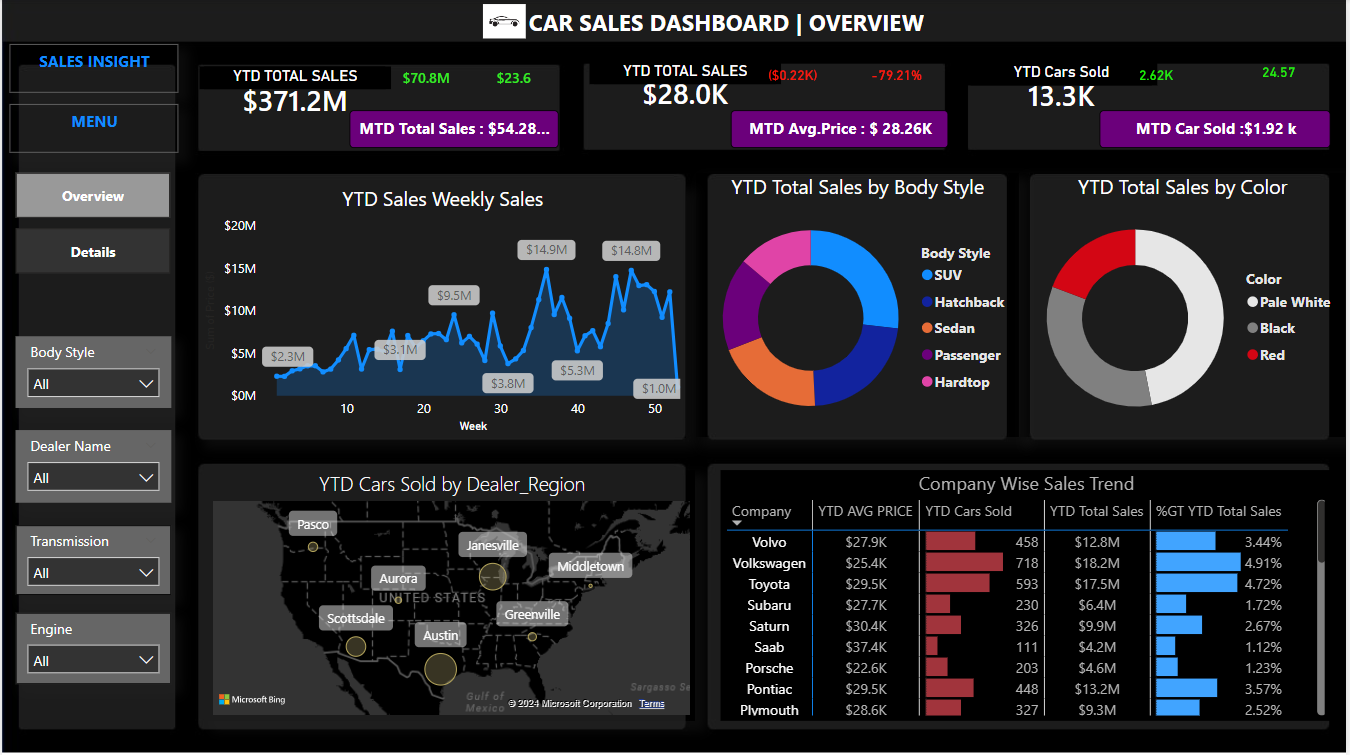

The page's visual inventory and layout, read from the dashboard file:
{"tool":"powerbi","page":{"name":"Overview","canvas":[1280,720],"ordinal":0},"visuals":[{"type":"card","title":"YTD TOTAL SALES","fields":{"Values":["car_data.YTD"]},"box":[188.1,64.3,182.1,50],"z":0},{"type":"card","fields":{"Values":["Calendar Table.Sales Difference"]},"box":[347.6,59.5,113.1,35.7],"z":1000},{"type":"card","fields":{"Values":["Calendar Table.YOY Sales"]},"box":[445.2,57.1,84.5,40.5],"z":2000},{"type":"card","fields":{"Values":["car_data.MTD_KPI"]},"box":[331,106,198.8,35.7],"z":3000},{"type":"card","title":"YTD TOTAL SALES","fields":{"Values":["car_data.YTD AVG PRICE"]},"box":[559.5,59.5,182.1,46.4],"z":4000},{"type":"card","fields":{"Values":["car_data.Average Sales Diff"]},"box":[703.6,56,98.8,35.7],"z":5000},{"type":"card","fields":{"Values":["car_data.YOY Average price Growth"]},"box":[802.4,56,98.8,35.7],"z":6000},{"type":"card","fields":{"Values":["car_data.Concatenate Avg sales MTD"]},"box":[694.1,106,207.1,35.7],"z":7000},{"type":"card","title":"YTD Cars Sold","fields":{"Values":["car_data.YTD Cars Sold"]},"box":[917.9,60.7,182.1,46.4],"z":8000},{"type":"card","fields":{"Values":["car_data.Car Sold Diff"]},"box":[1050,56,98.8,35.7],"z":9000},{"type":"card","fields":{"Values":["car_data.YOY Car Sold"]},"box":[1166.7,53.6,98.8,35.7],"z":10000},{"type":"card","fields":{"Values":["car_data.MTD CAR SOLD KPI"]},"box":[1045.2,106,220.2,35.7],"z":11000},{"type":"areaChart","title":"YTD Sales Weekly Sales","fields":{"Category":["Calendar Table.Week"],"Y":["Sum(car_data.Price ($))"]},"box":[188.1,177.4,463.1,240.5],"z":12000},{"type":"donutChart","fields":{"Category":["car_data.Body Style"],"Y":["car_data.YTD"]},"box":[660.7,165.5,308.3,252.4],"z":13000},{"type":"donutChart","fields":{"Y":["car_data.YTD"],"Category":["car_data.Color"]},"box":[969.1,165.5,310.7,252.4],"z":14000},{"type":"map","fields":{"Category":["car_data.Dealer_Region"],"Size":["car_data.YTD Cars Sold"]},"box":[196.4,448.8,464.3,238.1],"z":15000},{"type":"pivotTable","title":"Company Wise Sales Trend","fields":{"Rows":["car_data.Company"],"Values":["car_data.YTD AVG PRICE","car_data.YTD Cars Sold","car_data.YTD","Divide(car_data.YTD Total Sales, ScopedEval(car_data.YTD Total Sales, []))"]},"box":[684.5,448.8,581,238.1],"z":16000},{"type":"textbox","box":[419,2.4,464.3,41.7],"z":17000},{"type":"image","box":[445.2,0,66.7,42.9],"z":18000},{"type":"slicer","fields":{"Values":["car_data.Body Style"]},"box":[13.1,321.4,147.6,67.9],"z":19000},{"type":"slicer","fields":{"Values":["car_data.Dealer_Name"]},"box":[13.1,410.7,147.6,69],"z":20000},{"type":"slicer","fields":{"Values":["car_data.Transmission"]},"box":[13.1,501.2,147.6,66.7],"z":21000},{"type":"slicer","fields":{"Values":["car_data.Engine"]},"box":[13.1,584.5,147.6,67.9],"z":22000},{"type":"pageNavigator","box":[13.1,165.5,147.6,97.6],"z":22001},{"type":"textbox","box":[7.1,42.9,160.7,46.4],"z":22002},{"type":"textbox","box":[7.1,100,160.7,46.4],"z":22003}]}

Visuals, with their boxes in screenshot pixels (x1, y1, x2, y2), scaled from the page's 1280x720 canvas onto the 1350x755 screenshot:
"YTD TOTAL SALES" card: x1=198, y1=67, x2=390, y2=120
card - Calendar Table.Sales Difference: x1=367, y1=62, x2=486, y2=100
card - Calendar Table.YOY Sales: x1=470, y1=60, x2=559, y2=102
card - car_data.MTD_KPI: x1=349, y1=111, x2=559, y2=149
"YTD TOTAL SALES" card: x1=590, y1=62, x2=782, y2=111
card - car_data.Average Sales Diff: x1=742, y1=59, x2=846, y2=96
card - car_data.YOY Average price Growth: x1=846, y1=59, x2=950, y2=96
card - car_data.Concatenate Avg sales MTD: x1=732, y1=111, x2=950, y2=149
"YTD Cars Sold" card: x1=968, y1=64, x2=1160, y2=112
card - car_data.Car Sold Diff: x1=1107, y1=59, x2=1212, y2=96
card - car_data.YOY Car Sold: x1=1231, y1=56, x2=1335, y2=94
card - car_data.MTD CAR SOLD KPI: x1=1102, y1=111, x2=1335, y2=149
"YTD Sales Weekly Sales" areaChart: x1=198, y1=186, x2=687, y2=438
donutChart - car_data.Body Style x car_data.YTD: x1=697, y1=174, x2=1022, y2=438
donutChart - car_data.YTD x car_data.Color: x1=1022, y1=174, x2=1349, y2=438
map - car_data.Dealer_Region x car_data.YTD Cars Sold: x1=207, y1=471, x2=697, y2=720
"Company Wise Sales Trend" pivotTable: x1=722, y1=471, x2=1335, y2=720
textbox: x1=442, y1=3, x2=932, y2=46
image: x1=470, y1=0, x2=540, y2=45
slicer - car_data.Body Style: x1=14, y1=337, x2=169, y2=408
slicer - car_data.Dealer_Name: x1=14, y1=431, x2=169, y2=503
slicer - car_data.Transmission: x1=14, y1=526, x2=169, y2=596
slicer - car_data.Engine: x1=14, y1=613, x2=169, y2=684
pageNavigator: x1=14, y1=174, x2=169, y2=276
textbox: x1=7, y1=45, x2=177, y2=94
textbox: x1=7, y1=105, x2=177, y2=154
